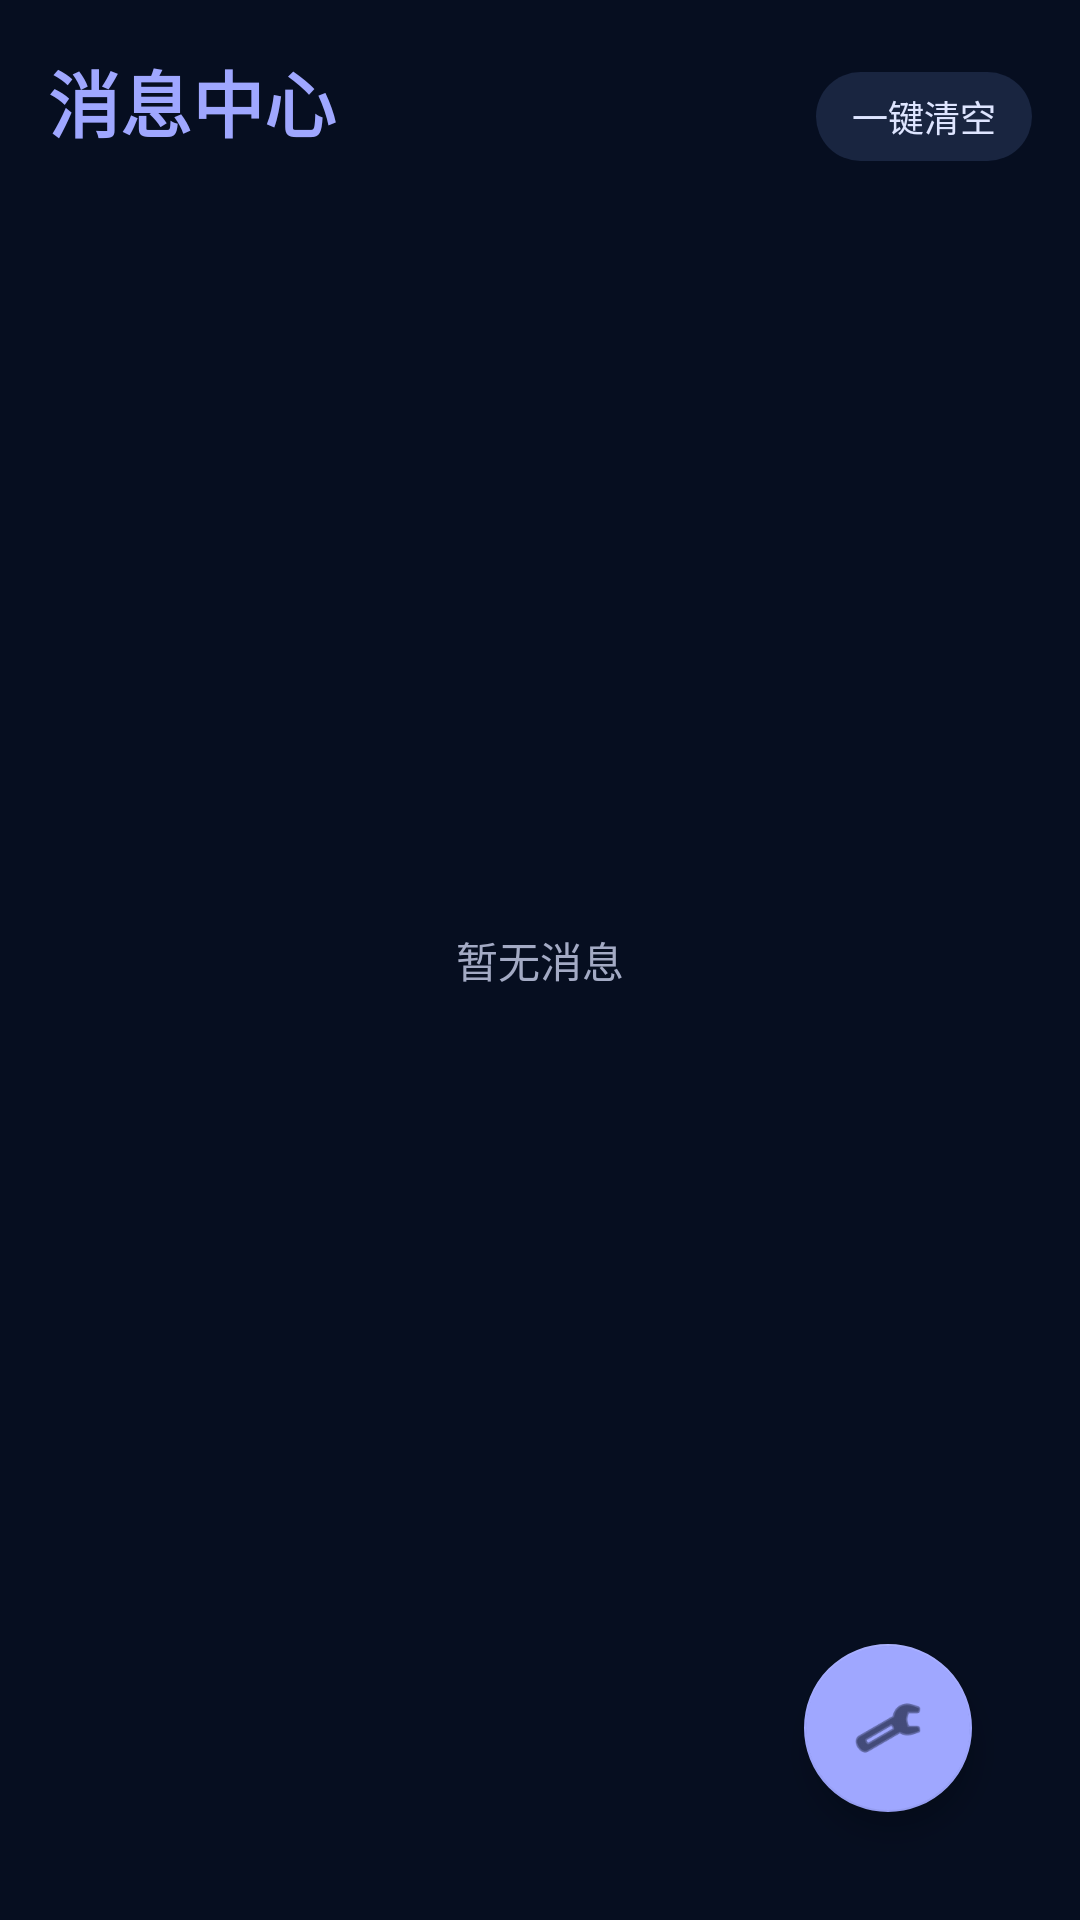

Screen size 1080 × 1920. Icon name, then its box in pixels as (x1, y1, x2, y2):
settings: (804, 1644, 972, 1812)
